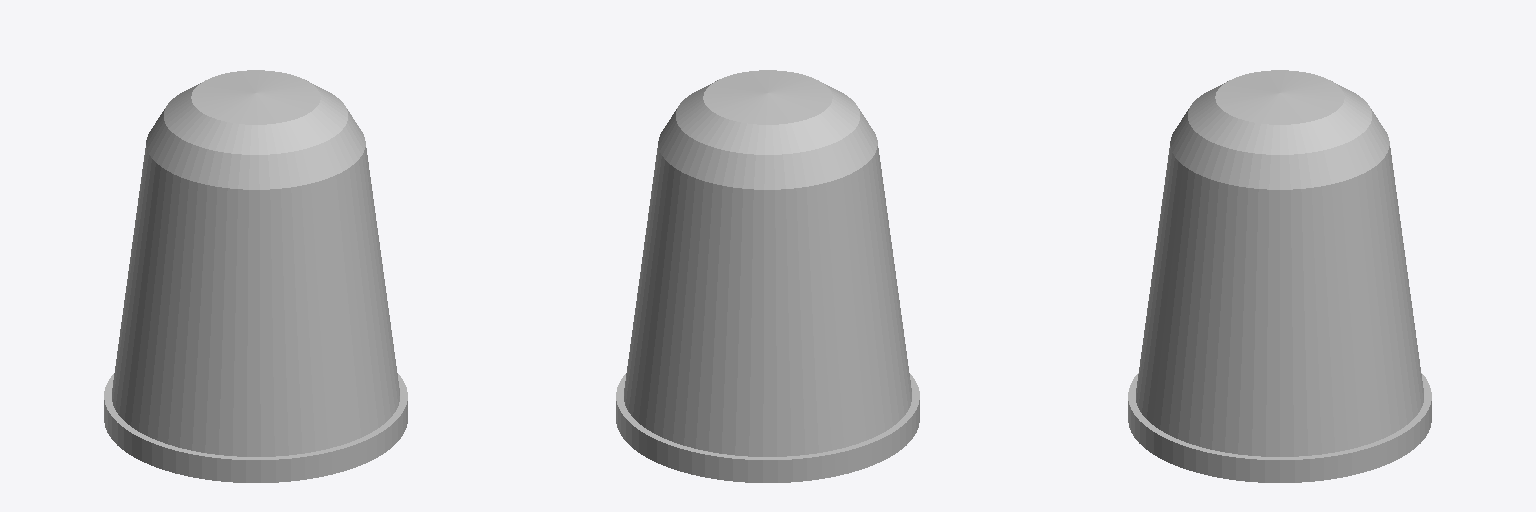
The model's file is Thimble.obj.
3 renders of one model, left to right at view 1: azimuth 30°, elevation 25°; view 2: azimuth 150°, elevation 25°; view 3: azimuth 270°, elevation 25°, orthographic.
Parts seen in each view (by area): view 1: Circle; view 2: Circle; view 3: Circle.
Part boxes in pixels (bbox=[...]): Circle: bbox=[104, 70, 407, 482]; Circle: bbox=[616, 70, 919, 482]; Circle: bbox=[1128, 70, 1431, 482].
Size of the model in its own units: 3 by 3.55 by 3.